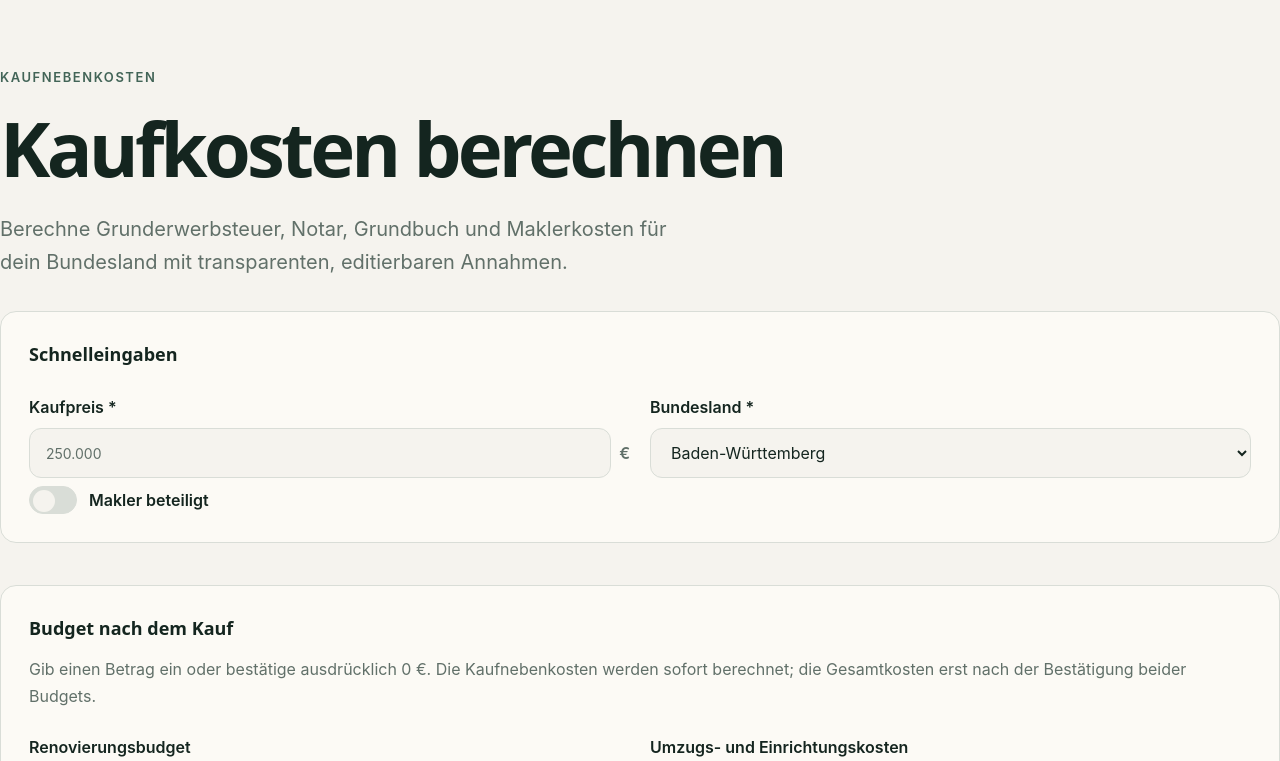
Test: PurchaseCostsPage › marks a positive entered amount as budgeted and enables the full project total
Type "250000" into the field labelled "Kaufpreis".
click(320, 453); type("250000")  # box [29,428,611,478]
(page scrolled)
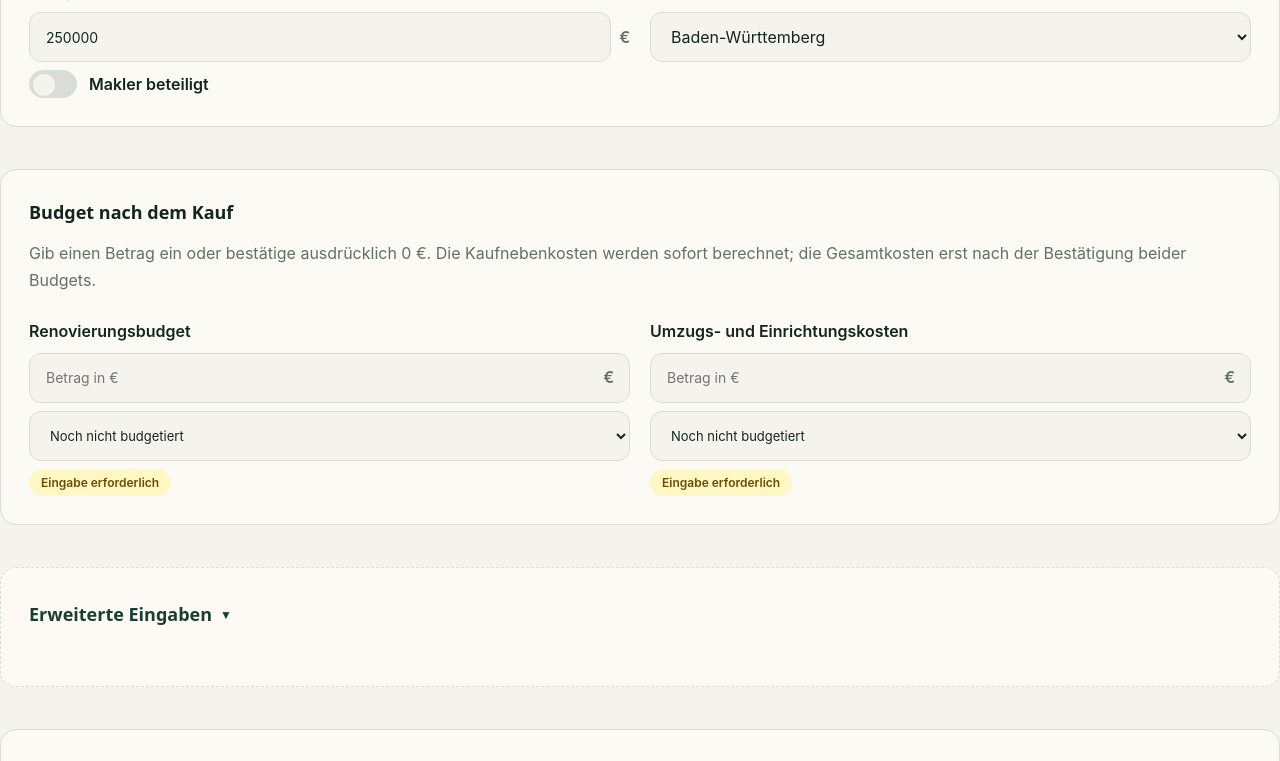
Type "10000" into the field labelled "Renovierungsbudget".
click(330, 378); type("10000")  # box [29,352,630,402]
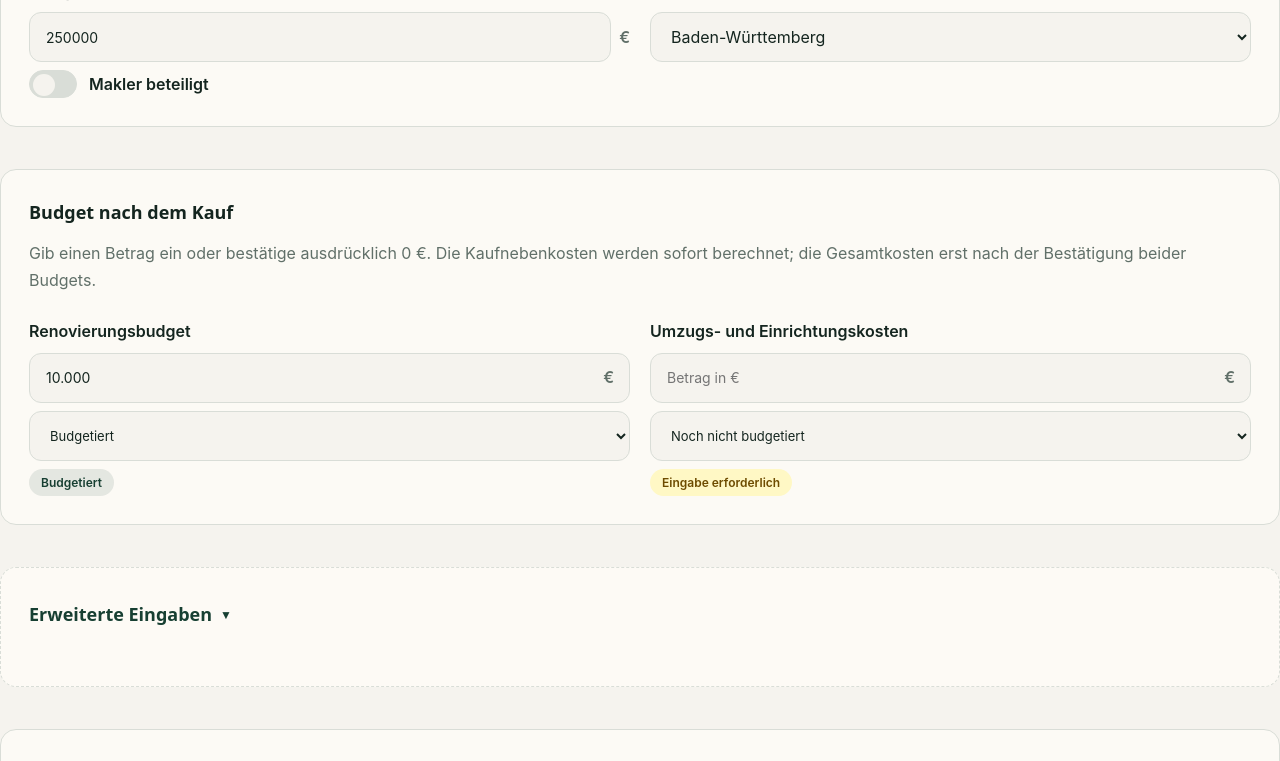
Check: the dropdown named "Status für Renovierungsbudget" shows "Budgetiert", box [29,410,630,460]
Select "Bestätigt: 0 €" in the dropdown named "Status für Umzugs- und Einrichtungskosten" at (950, 436), box [650,410,1251,460]
(page scrolled)
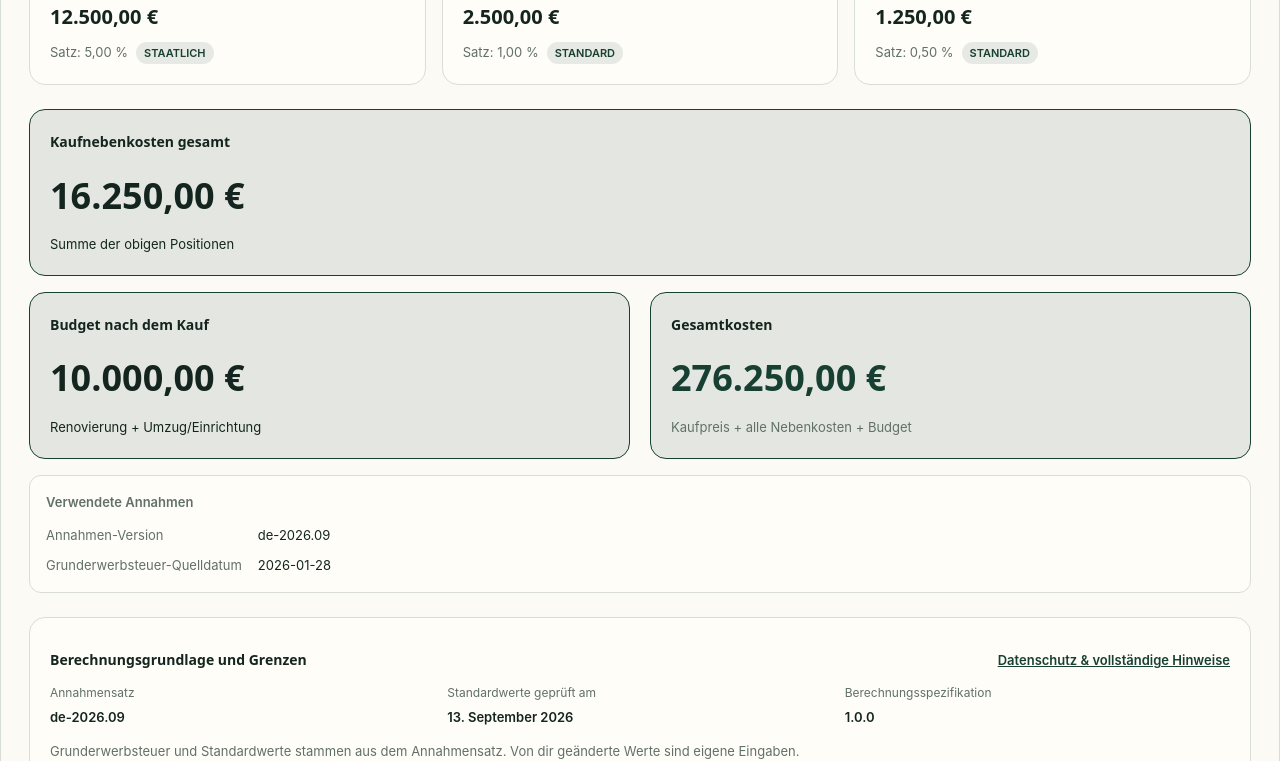
Check: the heading "Gesamtkosten" is shown, box [671,315,772,334]
Check: the text "276.250,00 €" is shown, box [671,353,886,402]
